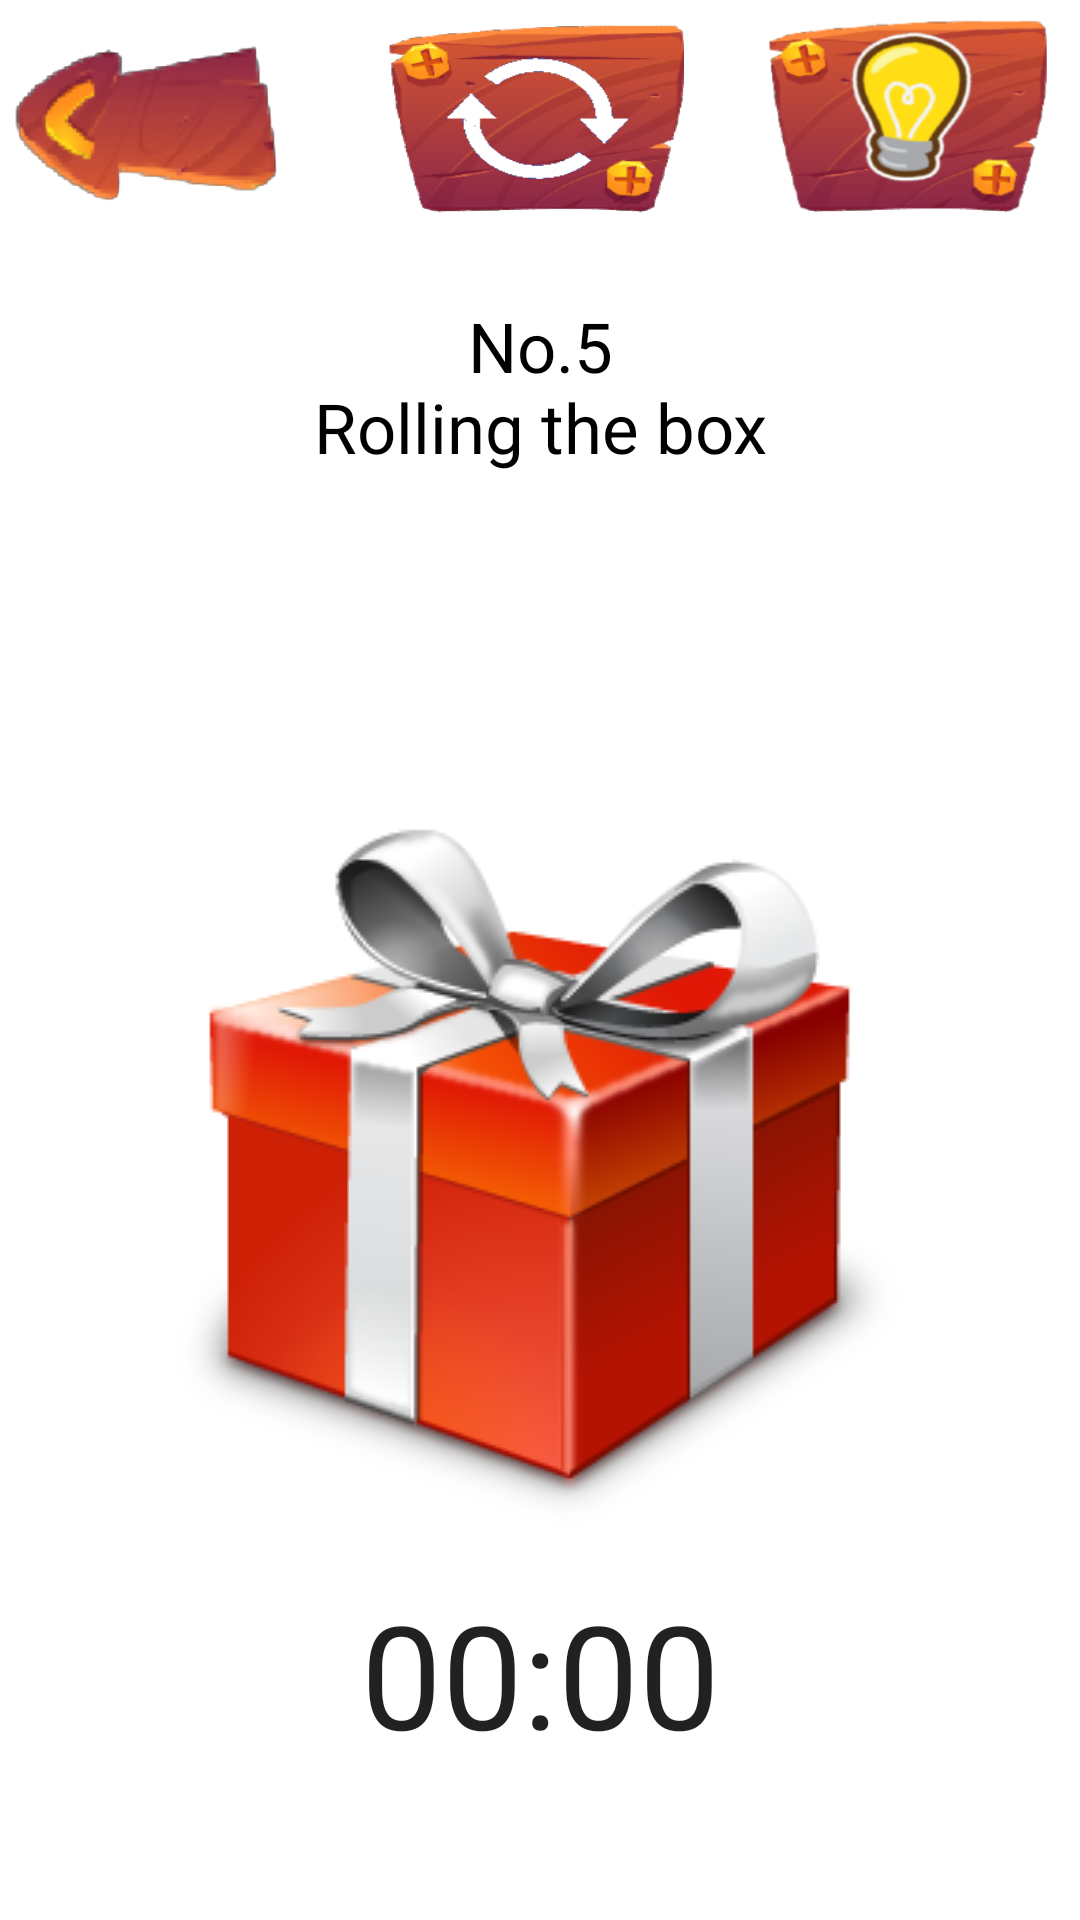

Screen size 1080px×1920px. Icon name, then its box in pixels as bbox(x1, y1, x2, y2):
hint: bbox(769, 21, 1047, 212)
restart: bbox(389, 25, 684, 213)
